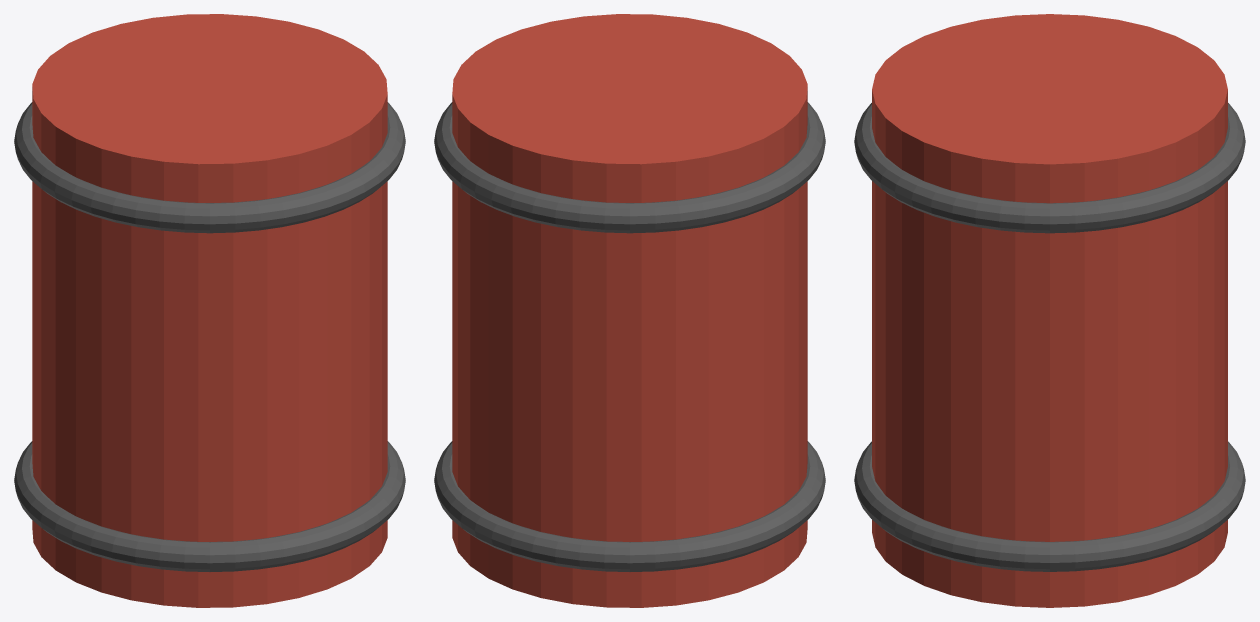
Rendered from barrel.glb.
The picture shows the model from 3 angles, left to right: view 1: azimuth 30°, elevation 25°; view 2: azimuth 150°, elevation 25°; view 3: azimuth 270°, elevation 25°; orthographic projection.
Visible parts, largest first — view 1: Barrel, Ring, Ring.001; view 2: Barrel, Ring, Ring.001; view 3: Barrel, Ring, Ring.001.
Boxes of the visible parts, box(x1,y1,x2,y2) form: Barrel: box(32, 14, 387, 607); Ring: box(14, 441, 405, 571); Ring.001: box(14, 102, 405, 233); Barrel: box(452, 14, 807, 607); Ring: box(434, 441, 825, 571); Ring.001: box(434, 102, 825, 233); Barrel: box(872, 14, 1227, 607); Ring: box(854, 441, 1245, 571); Ring.001: box(854, 103, 1245, 233).
Bounding box in the file's own units: 0.88 × 1.1 × 0.88.
